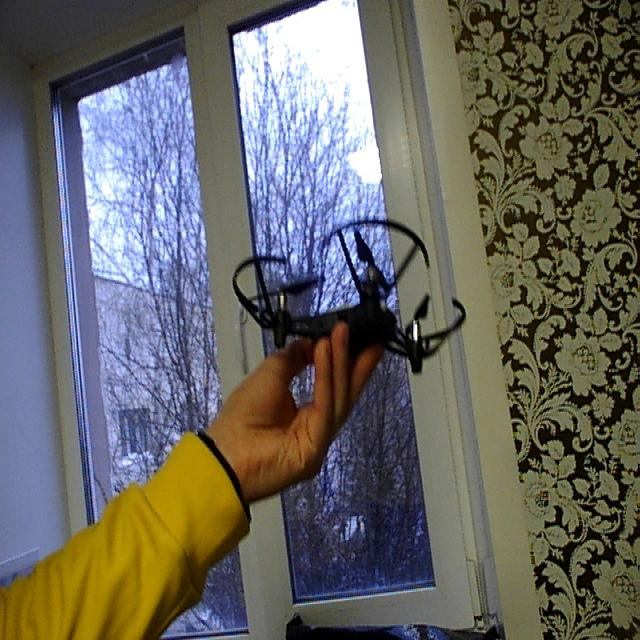drone: (232, 213, 474, 406)
